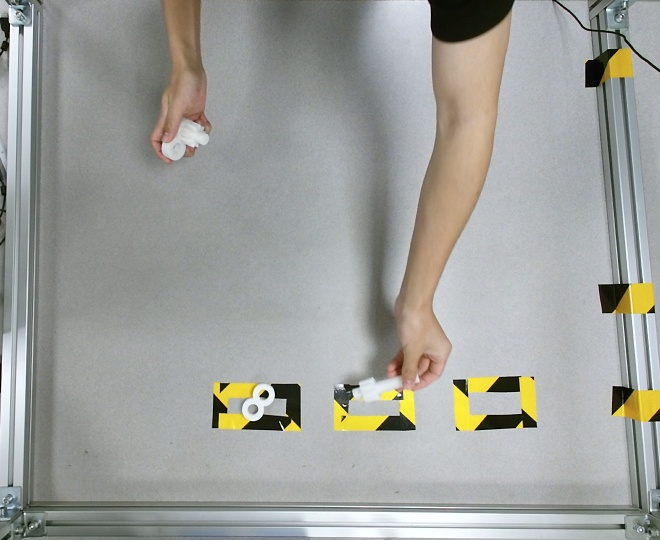stage_2: (161, 118, 208, 160)
